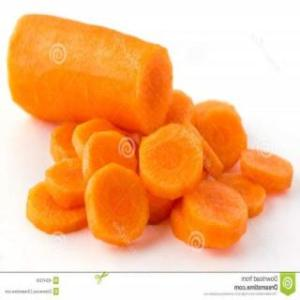carrot: (8, 11, 174, 138)
